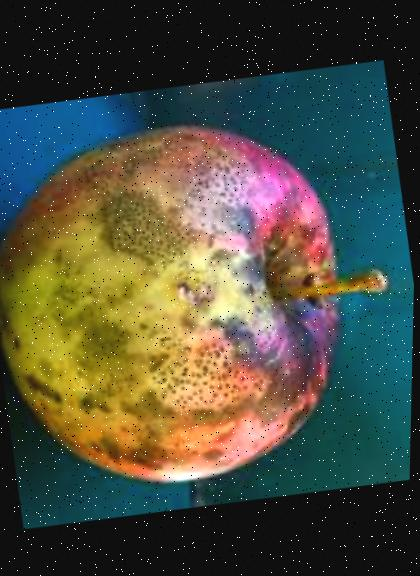BLOTCH: (0, 73, 393, 517)
